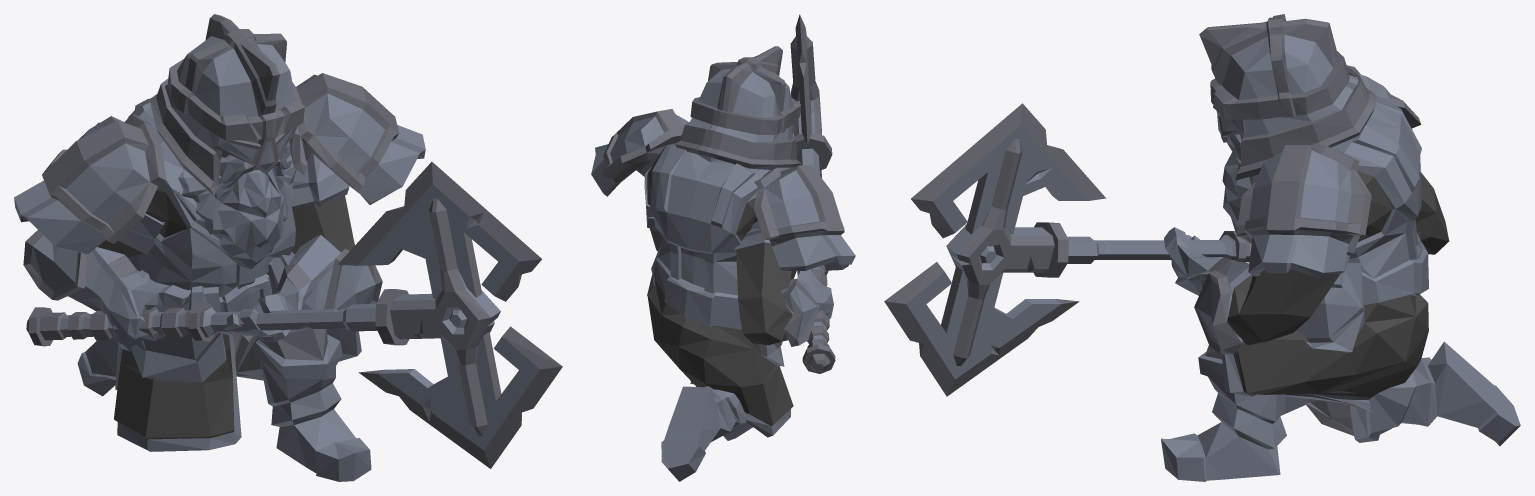
The model's file is Statue_02.FBX.
The picture shows the model from 3 angles, left to right: view 1: azimuth 30°, elevation 25°; view 2: azimuth 150°, elevation 25°; view 3: azimuth 270°, elevation 25°; orthographic projection. The views are drawn at different scales.
Parts seen in each view (by area): view 1: Statue_02; view 2: Statue_02; view 3: Statue_02.
Part boxes in pixels (x1=…): Statue_02: x1=14, y1=14, x2=562, y2=481; Statue_02: x1=591, y1=14, x2=855, y2=481; Statue_02: x1=884, y1=14, x2=1520, y2=481.
Bounding box in the file's own units: 143 × 166 × 218.
